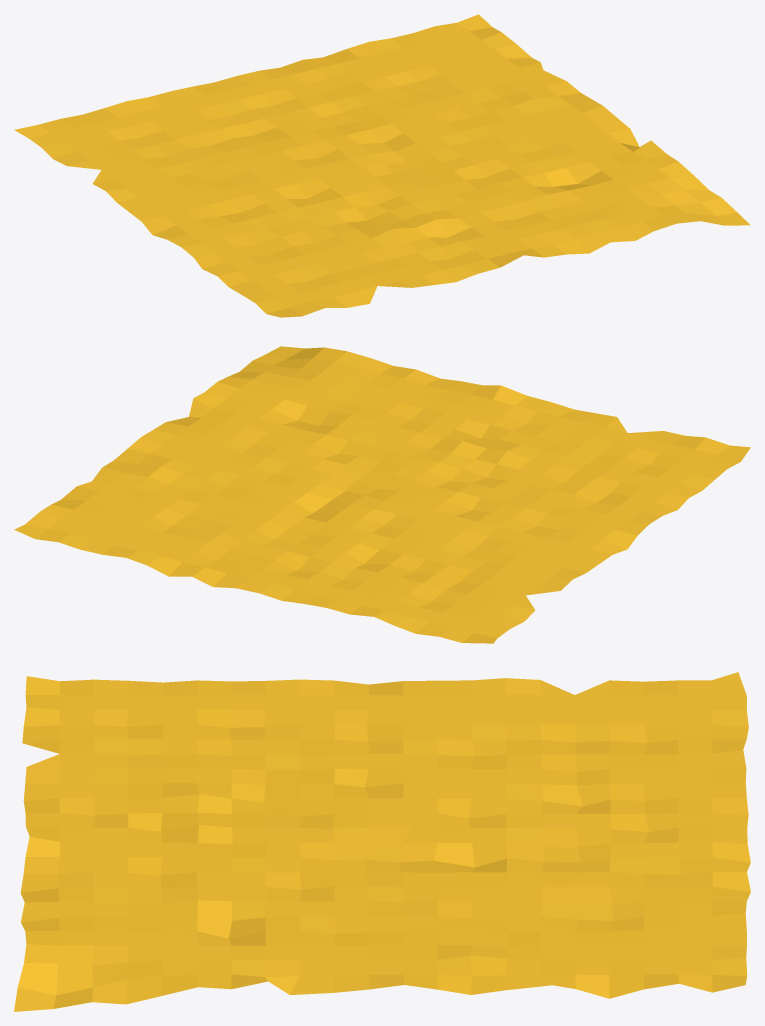
Rendered from SkrawekPapieru.fbx.
The picture shows the model from 3 angles, top to bottom: view 1: azimuth 30°, elevation 25°; view 2: azimuth 150°, elevation 25°; view 3: azimuth 270°, elevation 25°; orthographic projection. The views are drawn at different scales.
Parts seen in each view (by area): view 1: Plane; view 2: Plane; view 3: Plane.
Part boxes in pixels (box(x1,y1,x2,y2)): Plane: box(14, 14, 750, 317); Plane: box(14, 346, 750, 643); Plane: box(14, 672, 750, 1011).
Size of the model in its own units: 208 by 8.36 by 204.
